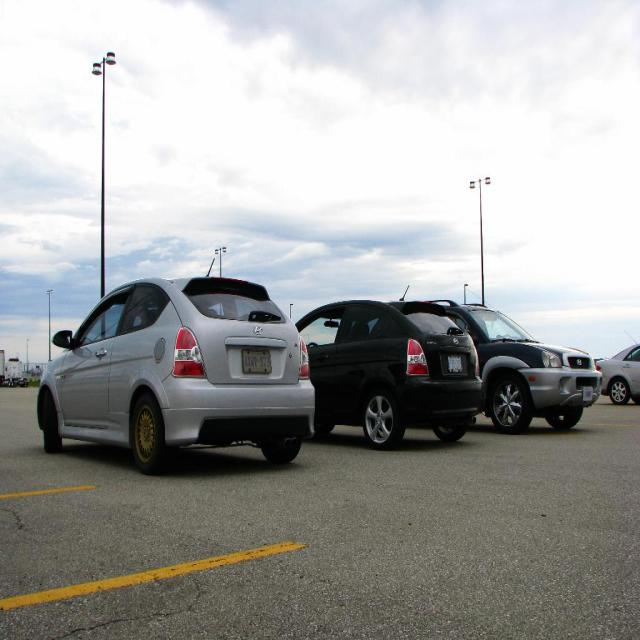car: (35, 256, 314, 468), (289, 286, 486, 440), (459, 304, 600, 433), (591, 337, 639, 403)
